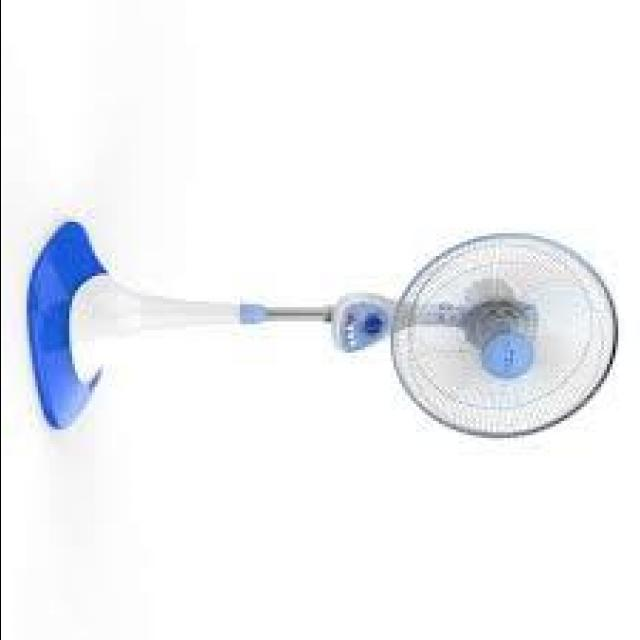fan: (29, 200, 625, 444)
